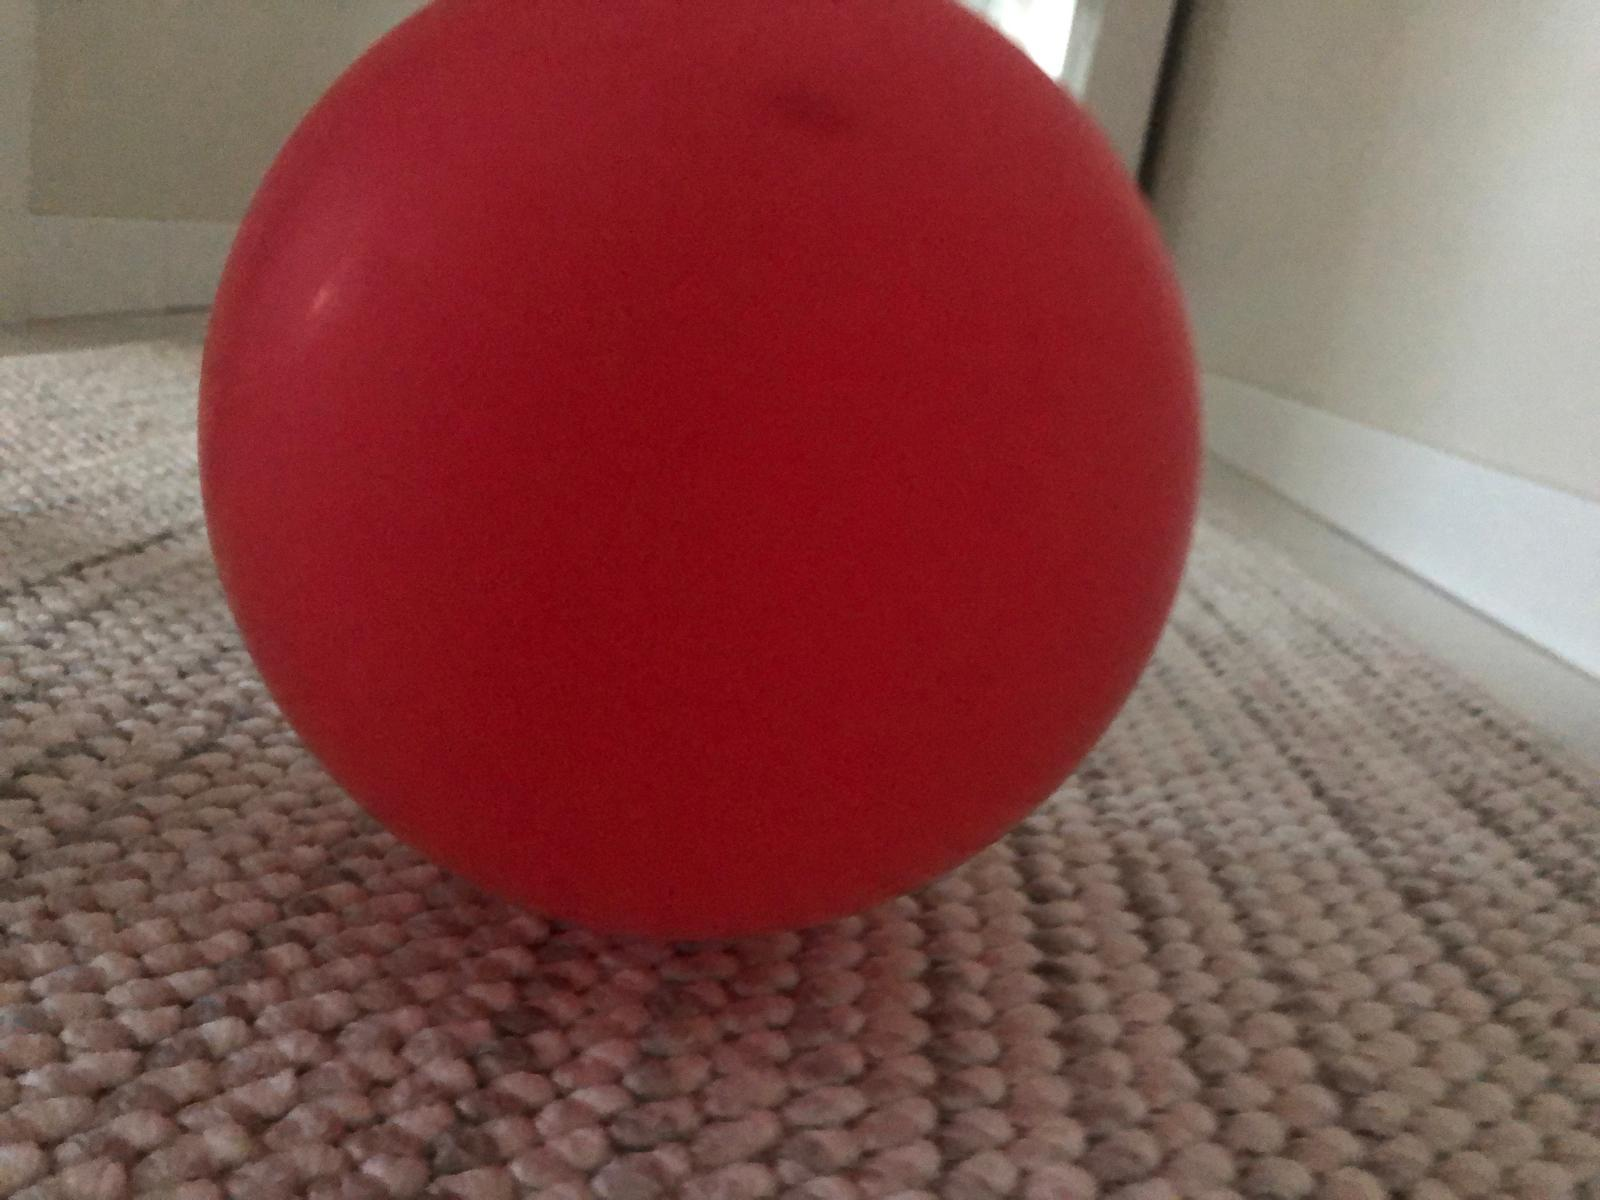red: (193, 0, 1207, 940)
